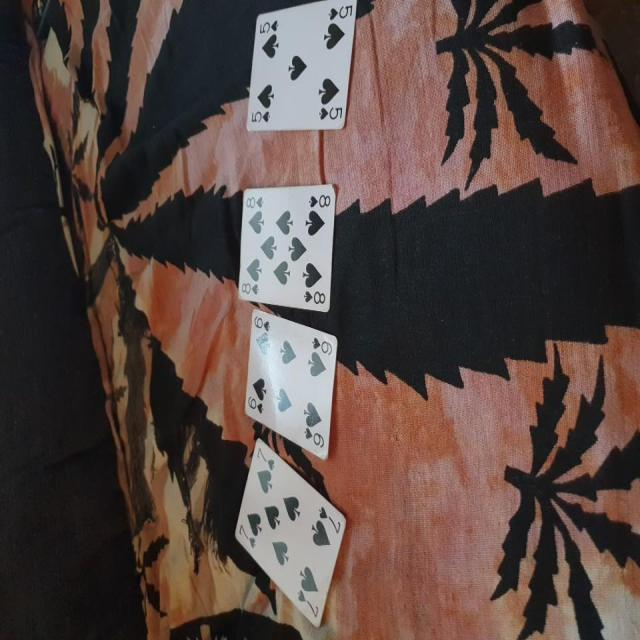5 Spades: (239, 1, 367, 137)
6 Spades: (233, 307, 340, 463)
7 Spades: (230, 439, 355, 631)
8 Spades: (233, 183, 342, 320)
